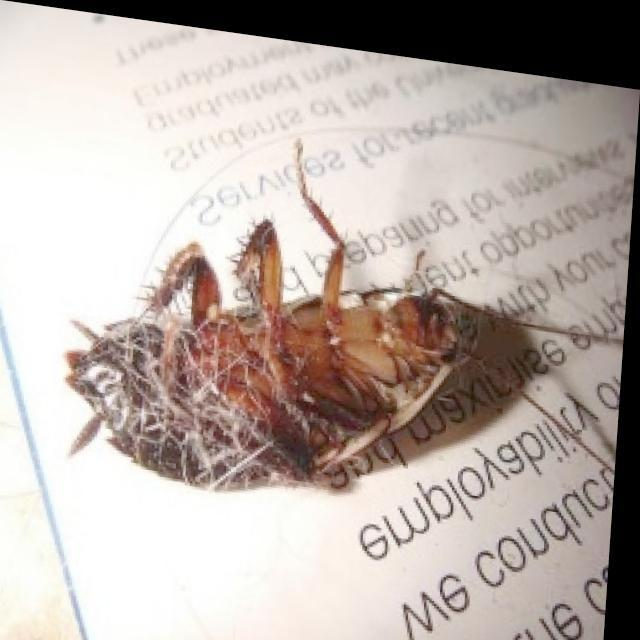cockroach: (44, 206, 534, 521)
